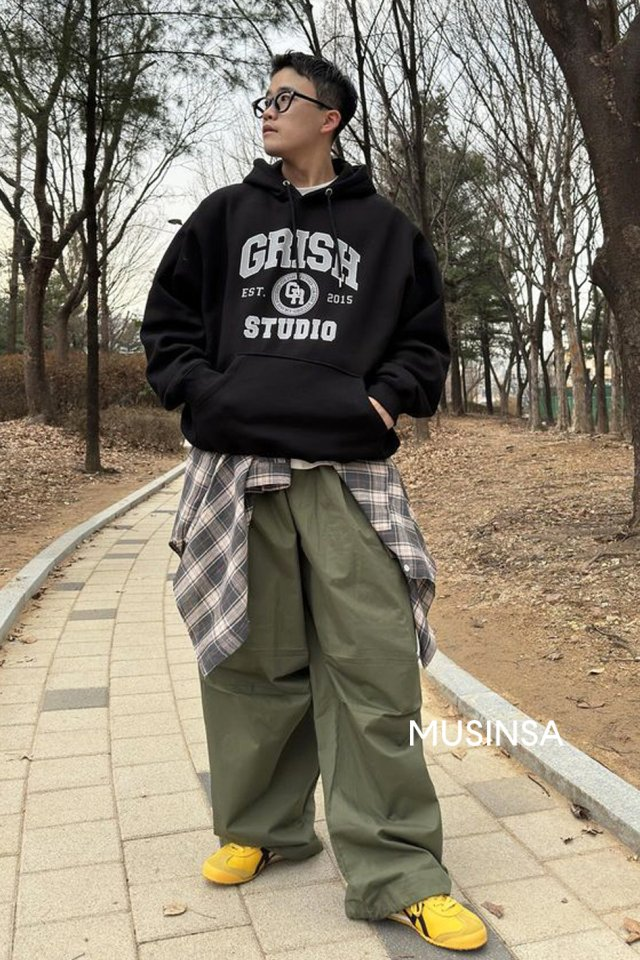Glasses: (247, 92, 342, 120)
Hoodie: (136, 144, 454, 462)
Pants: (191, 448, 456, 920)
Shoes: (199, 829, 493, 955)
